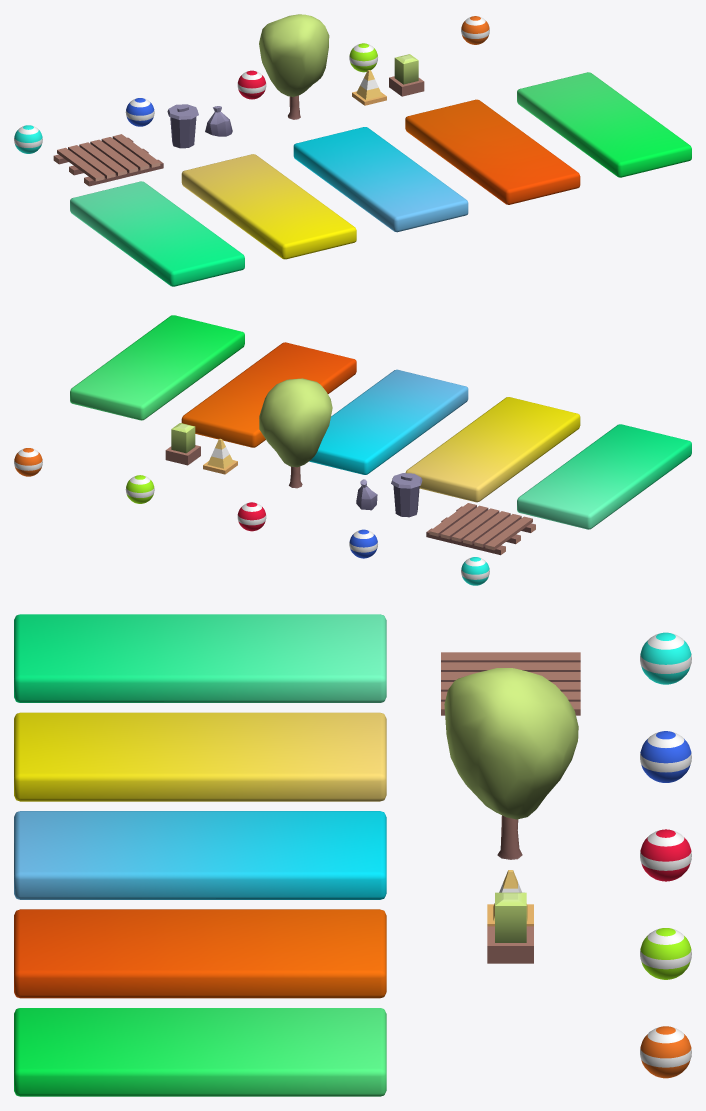
Rendered from balls.fbx.
The picture shows the model from 3 angles, top to bottom: view 1: azimuth 30°, elevation 25°; view 2: azimuth 150°, elevation 25°; view 3: azimuth 270°, elevation 25°; orthographic projection. The views are drawn at different scales.
Parts seen in each view (by area): view 1: platform, platform.001, platform.003, platform.002, platform.004, tree, pallet, trashCan, cactoos, ball, triangle, ball.004 (+4 smaller); view 2: platform.002, platform.004, platform.001, platform, platform.003, tree, pallet, cactoos, trashCan, ball, triangle, ball.001 (+4 smaller); view 3: platform.001, platform.003, platform, platform.002, platform.004, tree, pallet, cactoos, ball, ball.002, ball.003, ball.001 (+1 smaller).
Boxes of the visible parts, left/top/right/bottom form: platform: left=293, top=127, right=468, bottom=232; platform.001: left=181, top=154, right=356, bottom=259; platform.003: left=405, top=99, right=580, bottom=204; platform.002: left=70, top=181, right=244, bottom=286; platform.004: left=517, top=72, right=691, bottom=177; tree: left=259, top=14, right=329, bottom=119; pallet: left=53, top=134, right=163, bottom=186; trashCan: left=167, top=104, right=198, bottom=148; cactoos: left=389, top=54, right=424, bottom=96; ball: left=237, top=70, right=266, bottom=99; triangle: left=352, top=70, right=386, bottom=105; ball.004: left=349, top=43, right=377, bottom=72; platform.002: left=517, top=424, right=691, bottom=529; platform.004: left=70, top=315, right=244, bottom=420; platform.001: left=405, top=397, right=580, bottom=502; platform: left=309, top=369, right=468, bottom=474; platform.003: left=181, top=342, right=356, bottom=447; tree: left=259, top=378, right=332, bottom=488; pallet: left=426, top=503, right=535, bottom=555; cactoos: left=165, top=423, right=200, bottom=465; trashCan: left=391, top=473, right=422, bottom=517; ball: left=237, top=502, right=266, bottom=531; triangle: left=203, top=438, right=237, bottom=474; ball.001: left=349, top=529, right=377, bottom=558; platform.001: left=14, top=712, right=386, bottom=801; platform.003: left=14, top=909, right=386, bottom=998; platform: left=14, top=811, right=386, bottom=899; platform.002: left=14, top=614, right=386, bottom=702; platform.004: left=14, top=1008, right=386, bottom=1096; tree: left=444, top=668, right=578, bottom=859; pallet: left=441, top=652, right=580, bottom=715; cactoos: left=487, top=892, right=533, bottom=963; ball: left=640, top=829, right=691, bottom=881; ball.002: left=640, top=632, right=691, bottom=684; ball.003: left=640, top=1026, right=691, bottom=1078; ball.001: left=640, top=731, right=691, bottom=782.
Size of the model in its own units: 14 by 2.93 by 8.74.
Materials: 1 (1 with a texture image).
